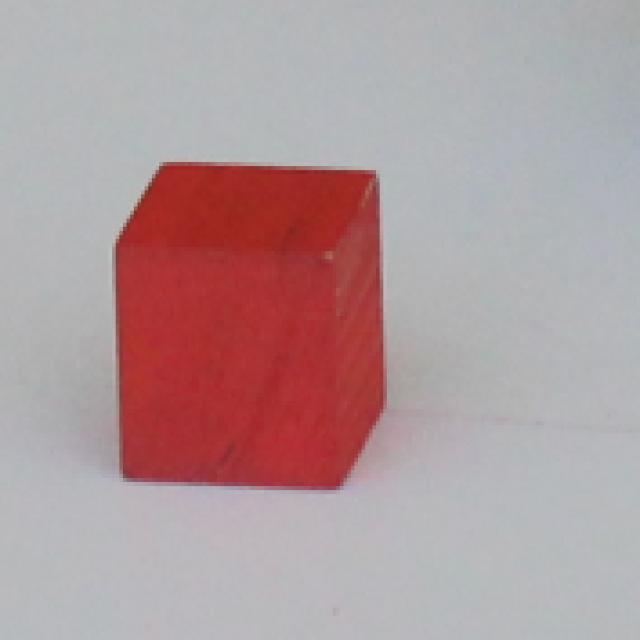red cube: (113, 149, 391, 498)
